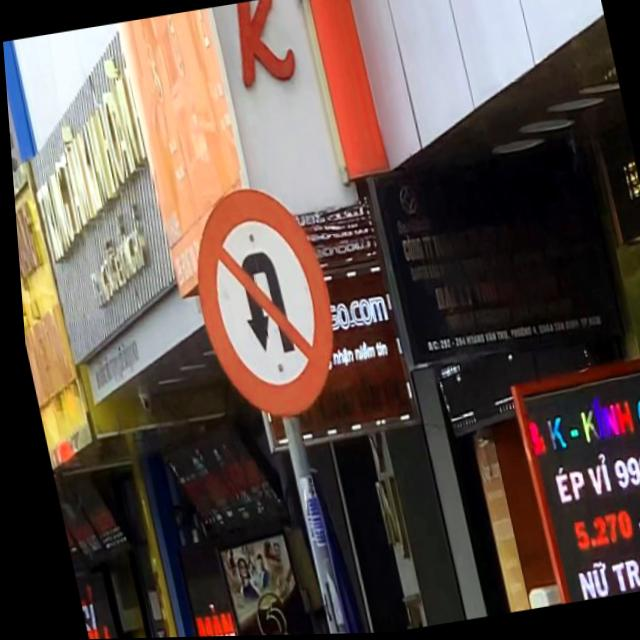Cam quay dau xe: (170, 176, 350, 430)
